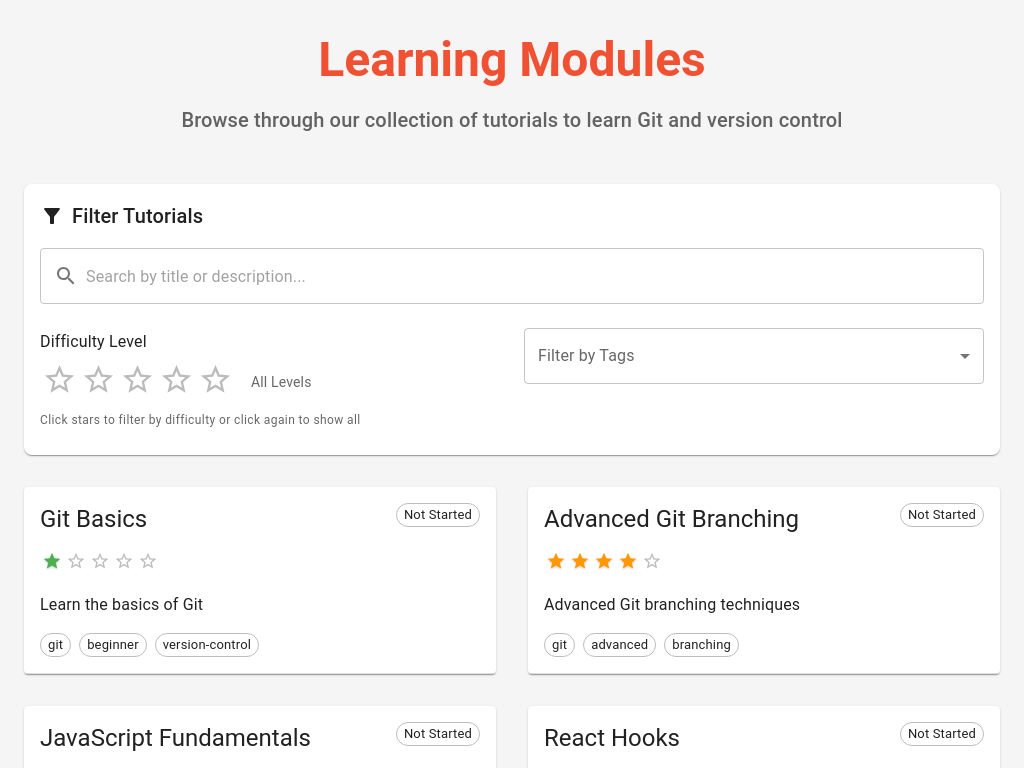
Test: Hashtag Filtering for Modules › combines tag filter with difficulty filter
Expected: the heading "Git Basics" is shown, [40, 502, 147, 534]
Expected: the heading "Advanced Git Branching" is shown, [544, 502, 799, 534]
Press the mouse on the dropdown named "Filter by Tags" at (754, 356), box [524, 328, 984, 384]
(page scrolled)
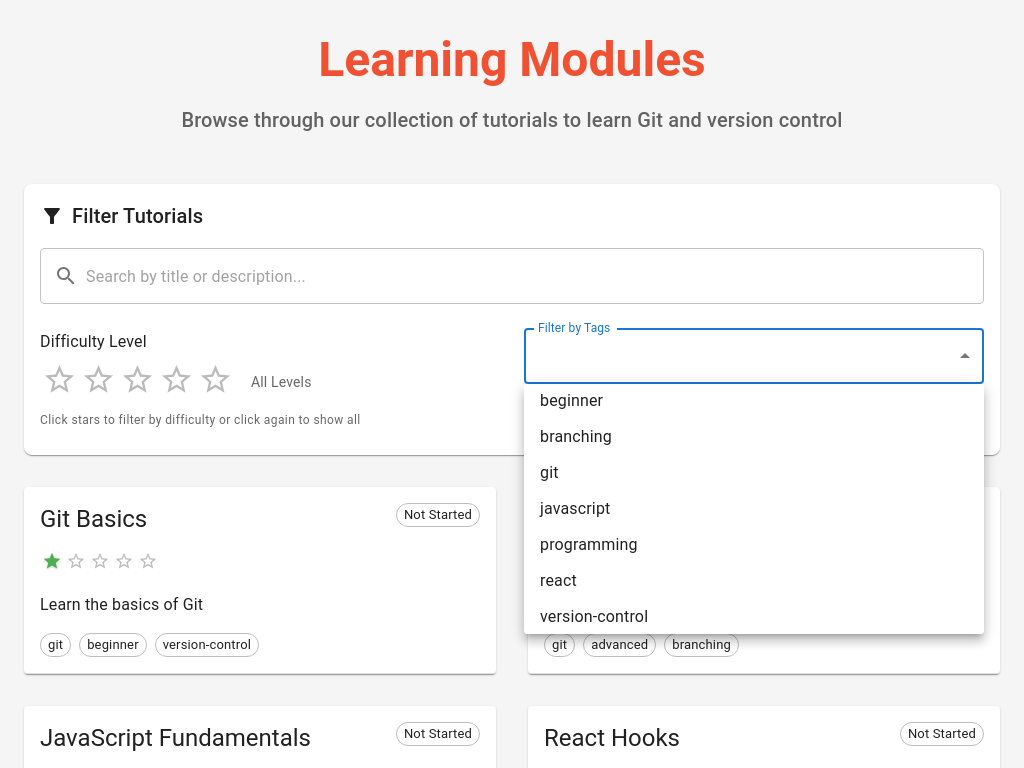
Click the option "javascript". click: (575, 508)
box: [540, 499, 610, 518]
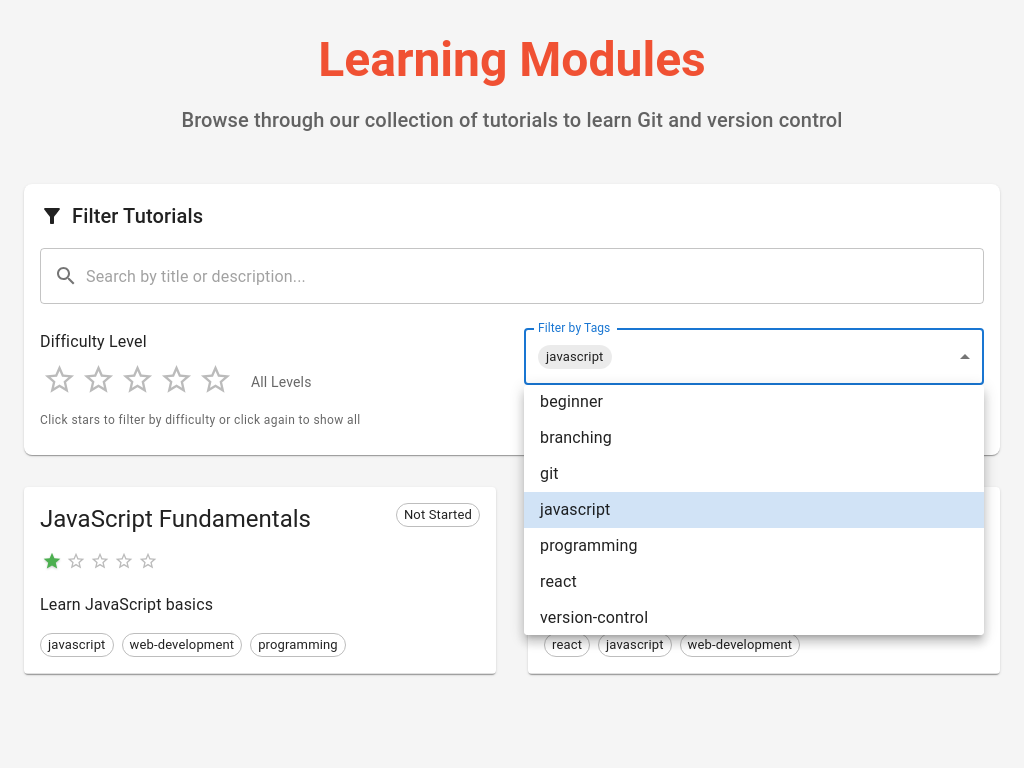
Expected: the heading "JavaScript Fundamentals" is shown, [40, 502, 311, 534]
Expected: the heading "Git Basics" is gone
